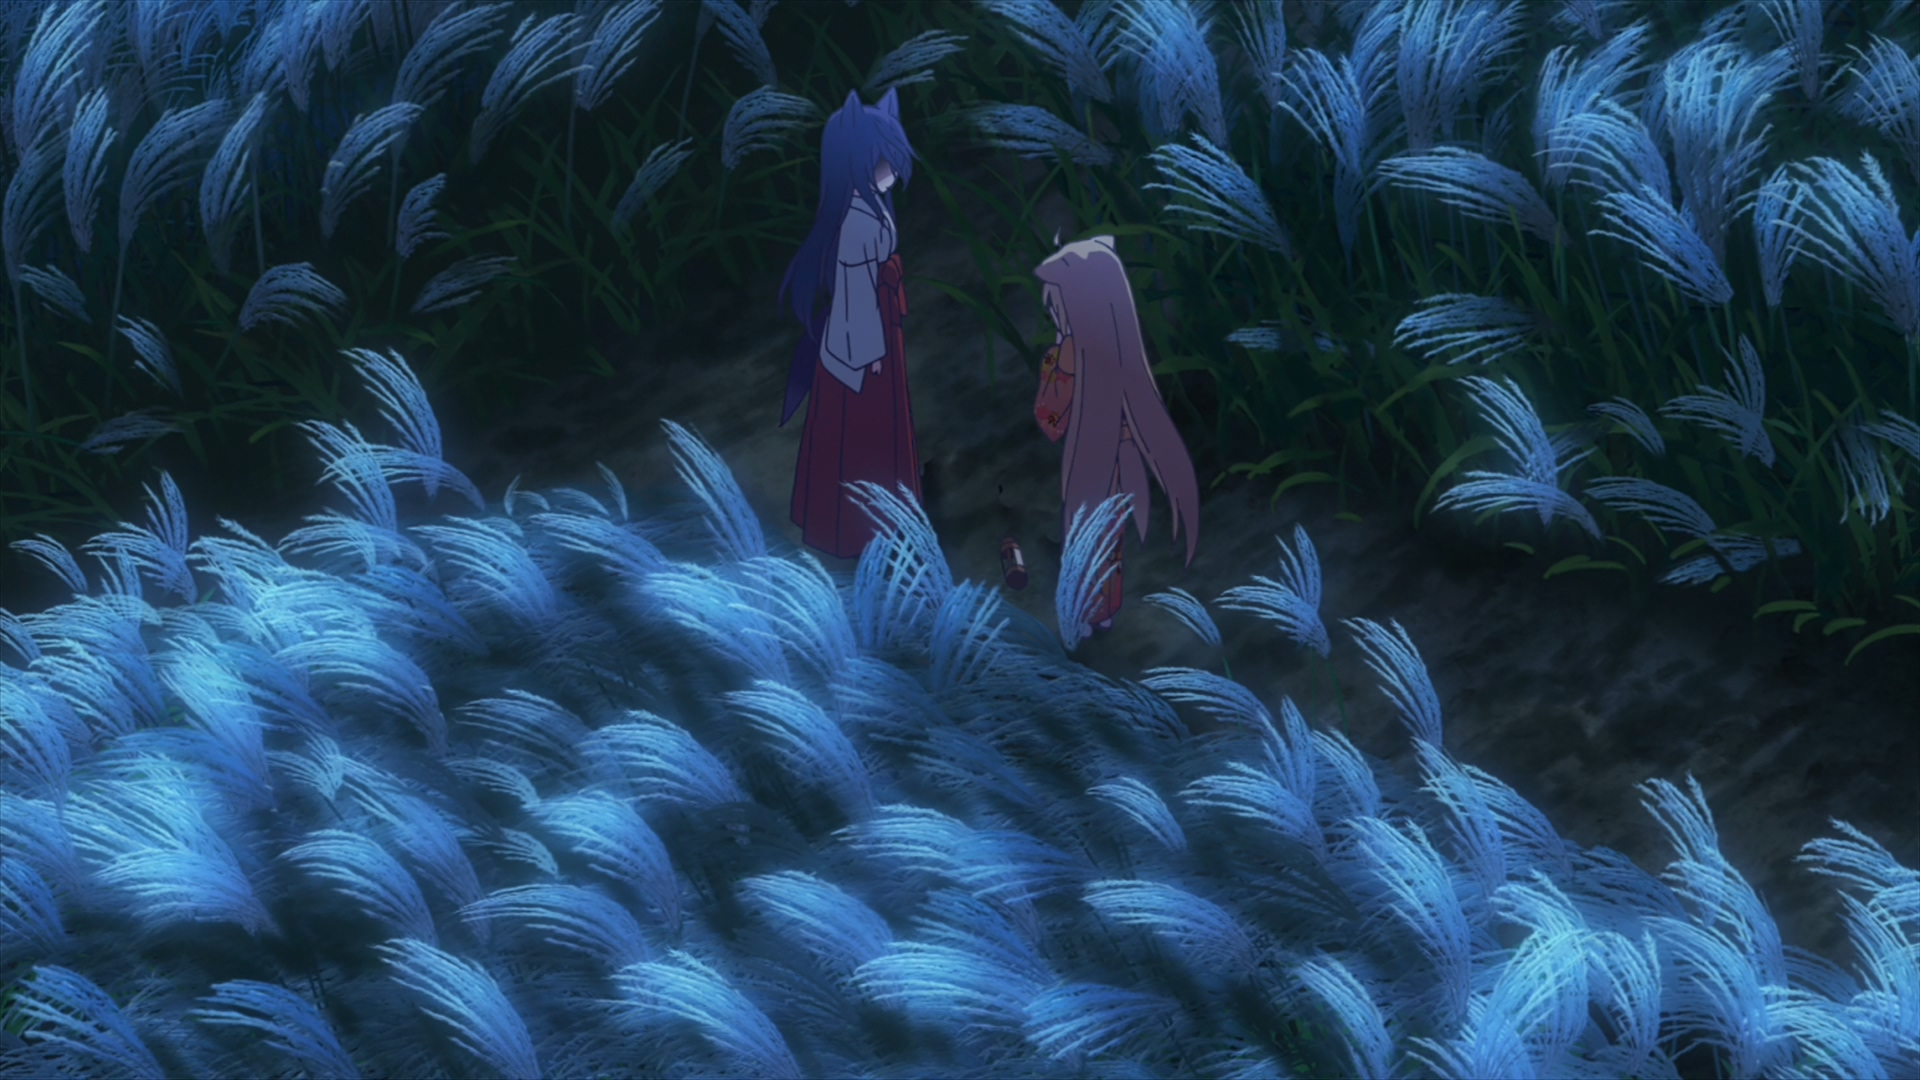柚: (1031, 225, 1201, 649)
皋: (782, 88, 931, 560)
